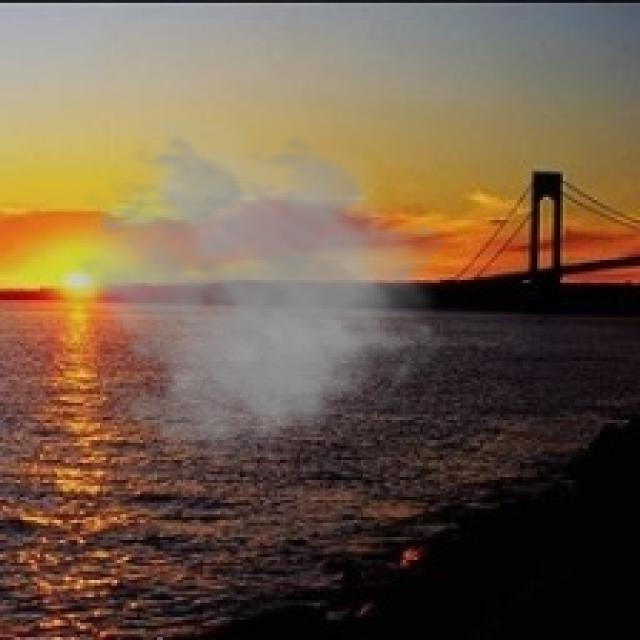Smoke: (69, 123, 448, 480)
